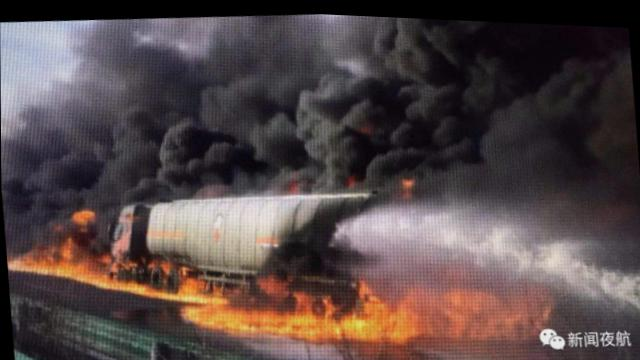fire: (5, 173, 564, 359)
